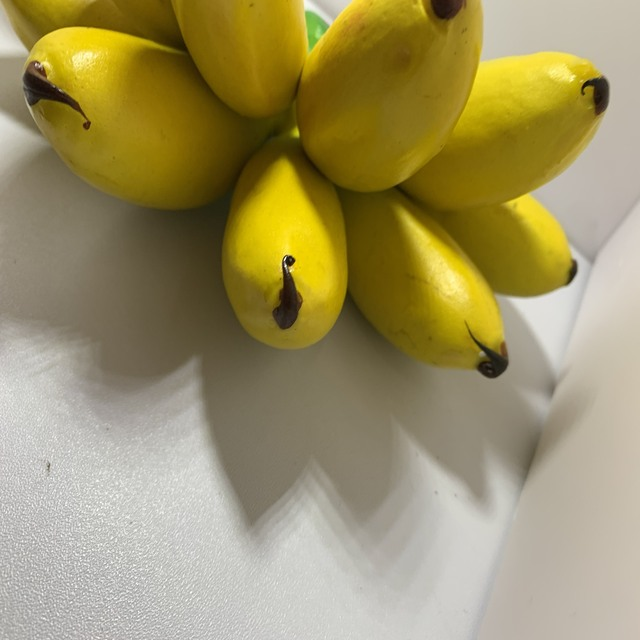Chuoi: (0, 0, 612, 377)
